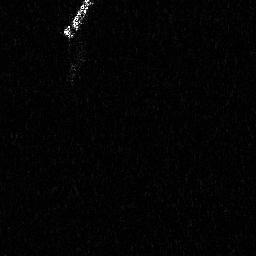ship: (62, 1, 97, 39)
